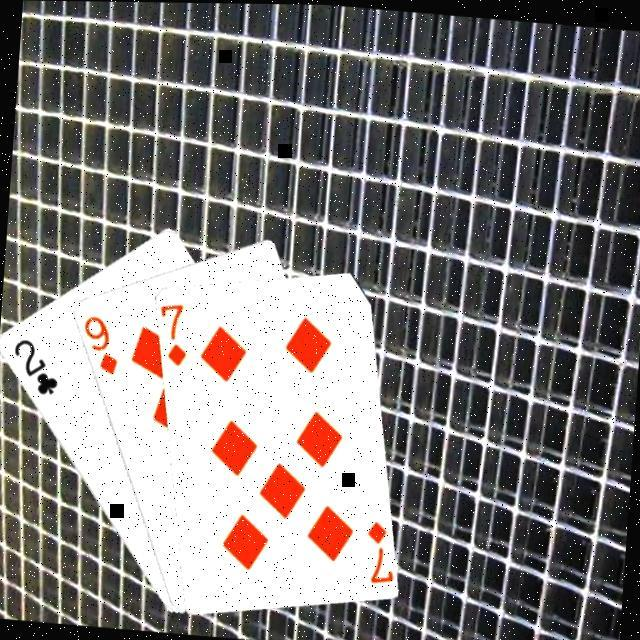2C: (4, 335, 62, 401)
7D: (153, 299, 190, 370), (358, 517, 394, 587)
9D: (74, 312, 120, 379)
